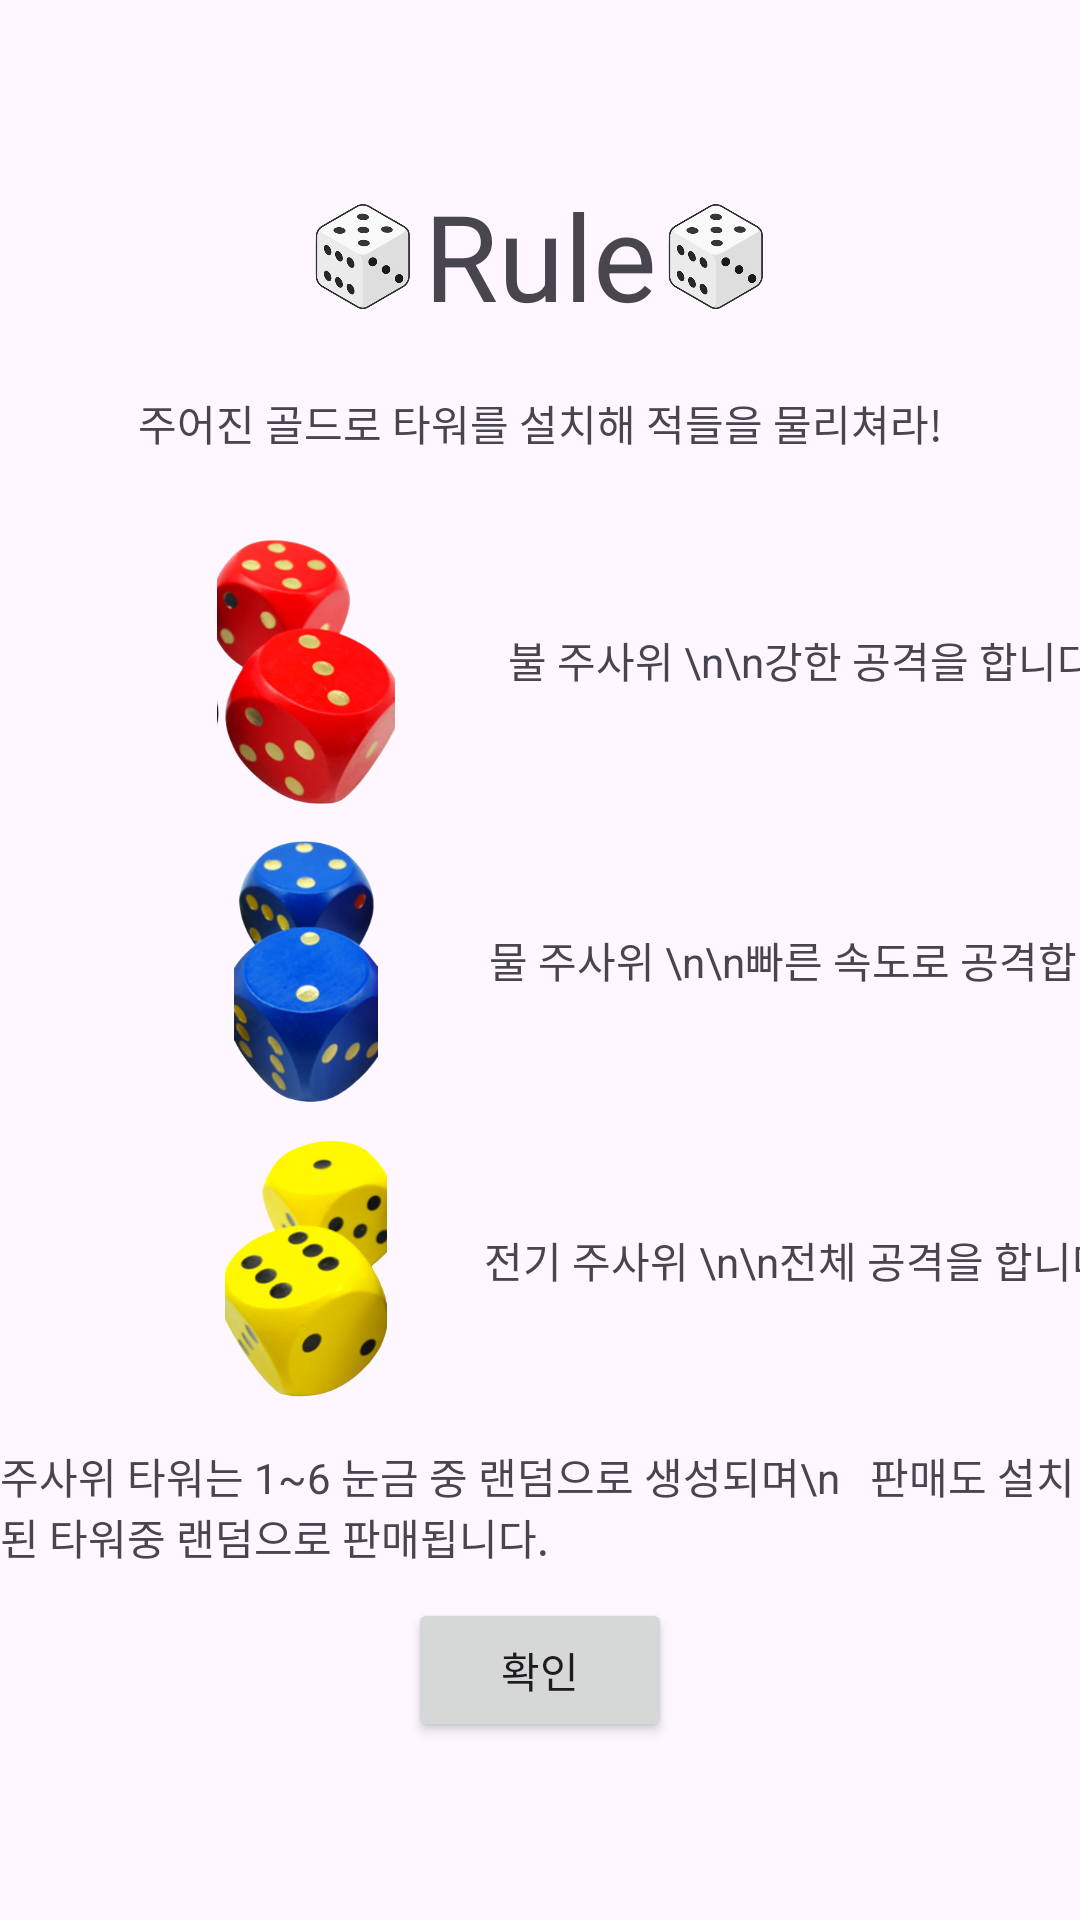

Icon bounding boxes for this 1080*1920 phone screenshot, format (x1=x1, y1=y1, x2=x2, y2=y2):
dice: (x1=217, y1=540, x2=395, y2=804), (x1=234, y1=841, x2=378, y2=1102), (x1=225, y1=1140, x2=387, y2=1397)
